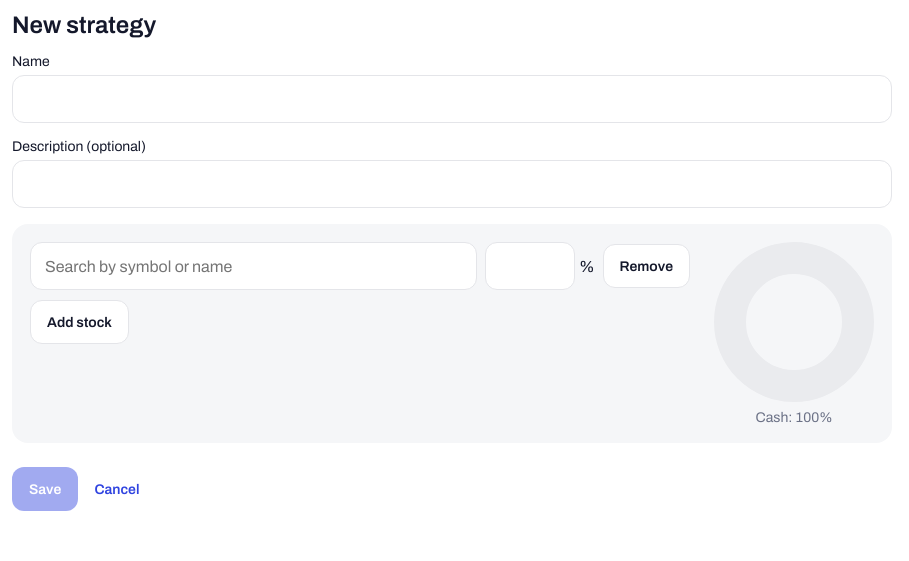
Test: PieEditorComponent › shows the server message on a 422
The width and height of the screenshot is (909, 561).
Type "Mine" into the field with id "name" at [452, 99], box [12, 75, 892, 123]
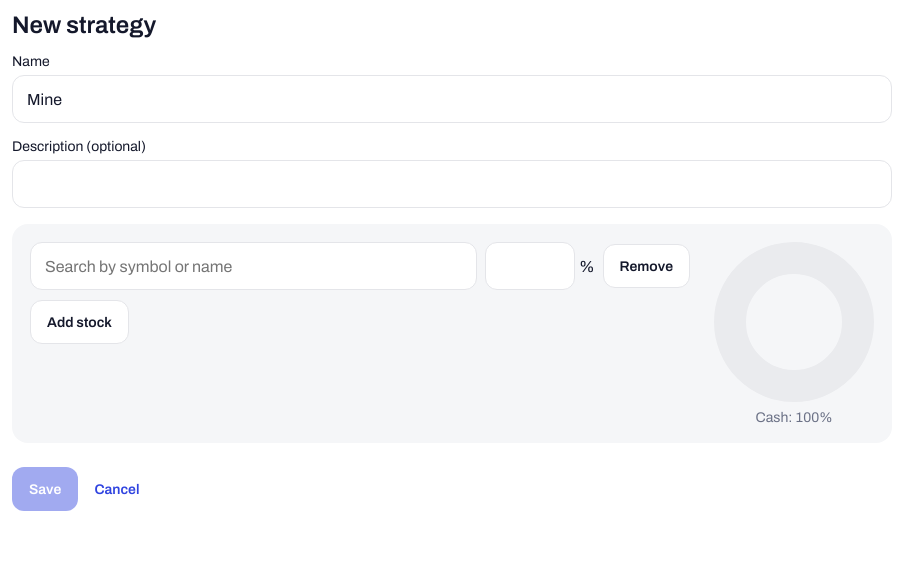
Type "AAPL" into the field with class "symbol" at [254, 266], box [30, 242, 477, 290]
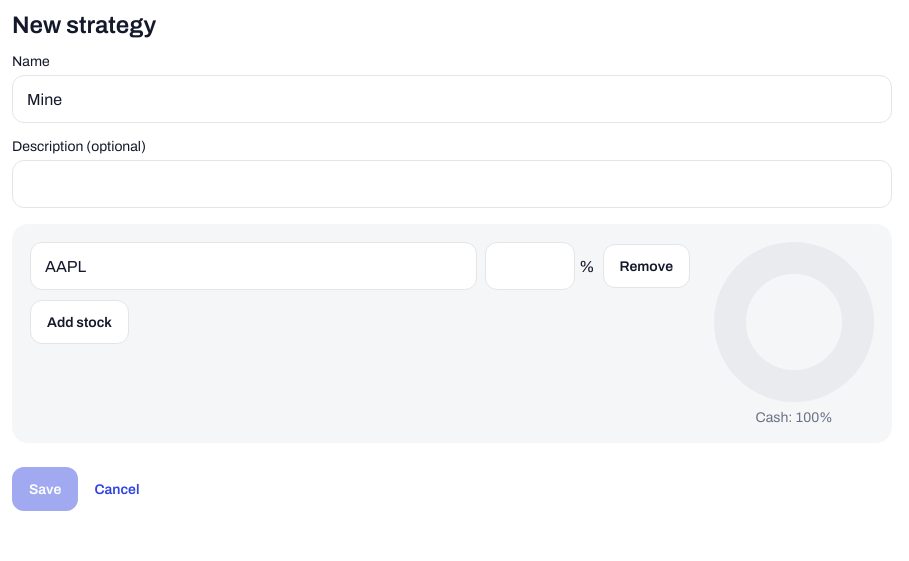
Type "50" into the field named "Weight 1" at [530, 266], box [485, 242, 575, 290]
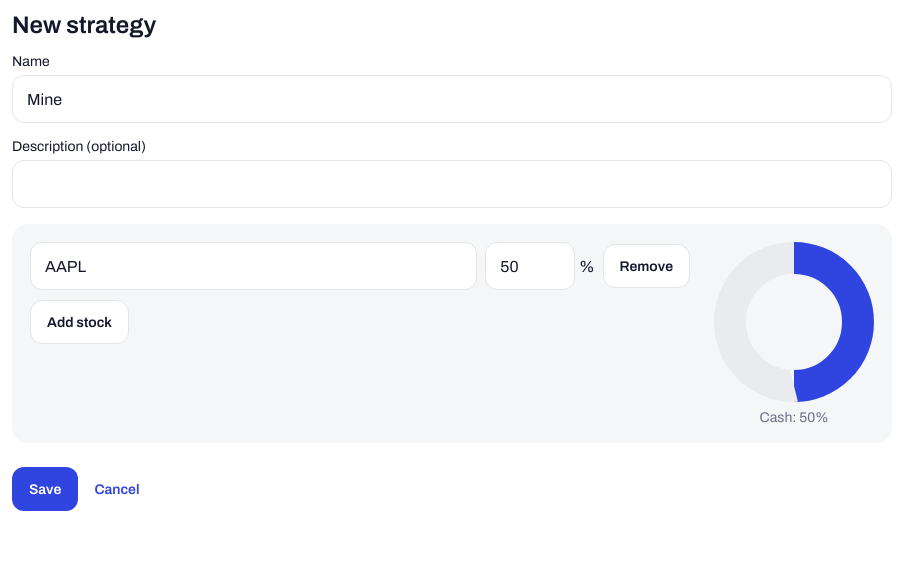
Click the button "Save" at [45, 489], box [12, 467, 78, 511]
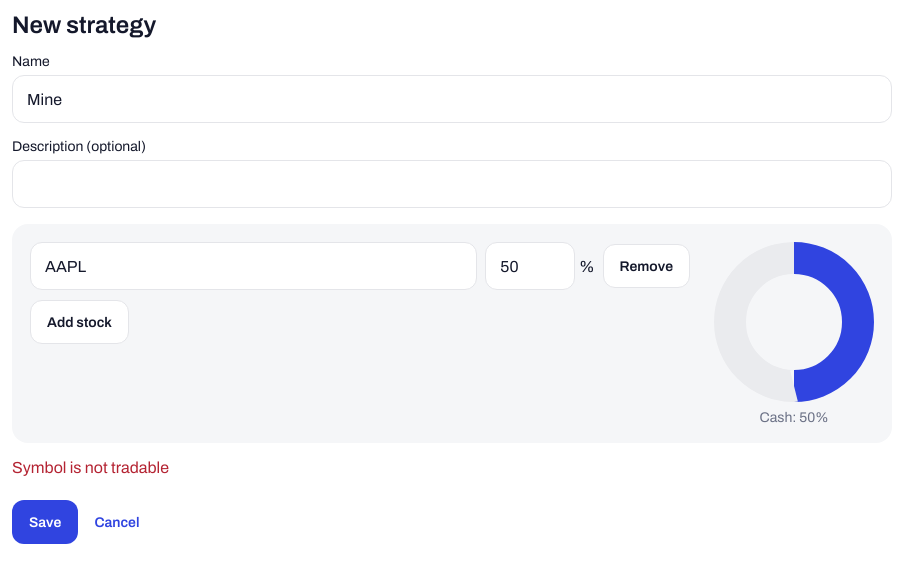
Result: the message "Symbol is not tradable" is shown at [12, 459, 169, 476]
